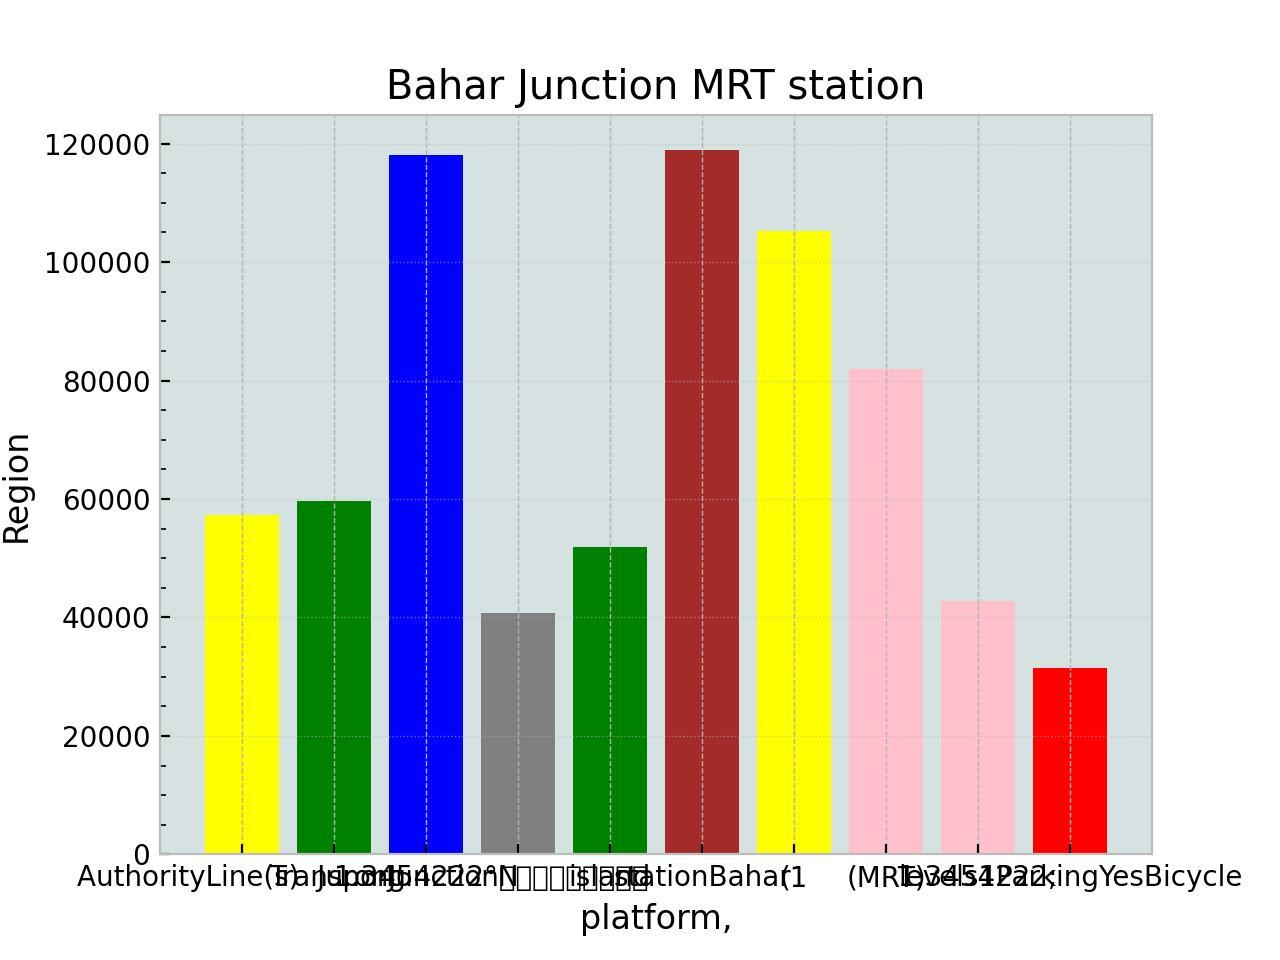axis: (0, 132, 150, 871)
rectangle: (665, 150, 739, 854), (389, 155, 463, 854), (757, 231, 831, 854), (849, 369, 923, 854), (297, 501, 371, 854), (205, 515, 279, 854), (573, 548, 647, 854), (941, 601, 1015, 854), (481, 612, 555, 854), (1033, 669, 1107, 854)
